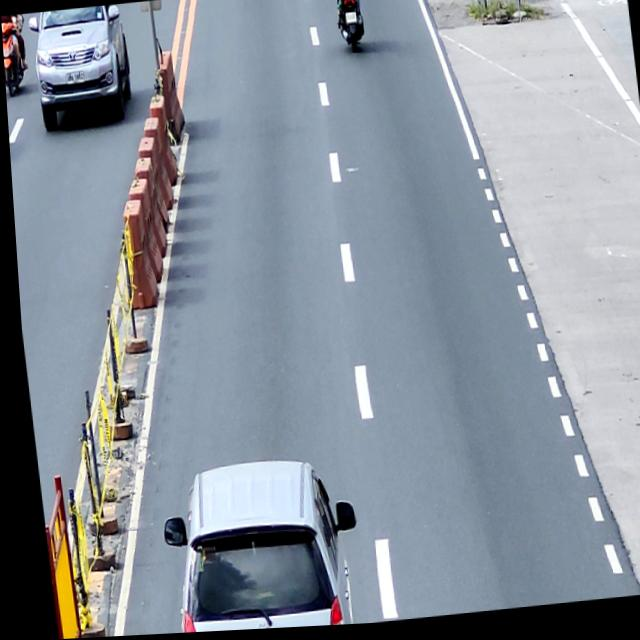Car: (148, 454, 359, 635), (27, 5, 134, 132)
License-Plate: (63, 70, 85, 86), (342, 12, 360, 31)
Motorcycle: (1, 16, 30, 98), (334, 0, 366, 56)
